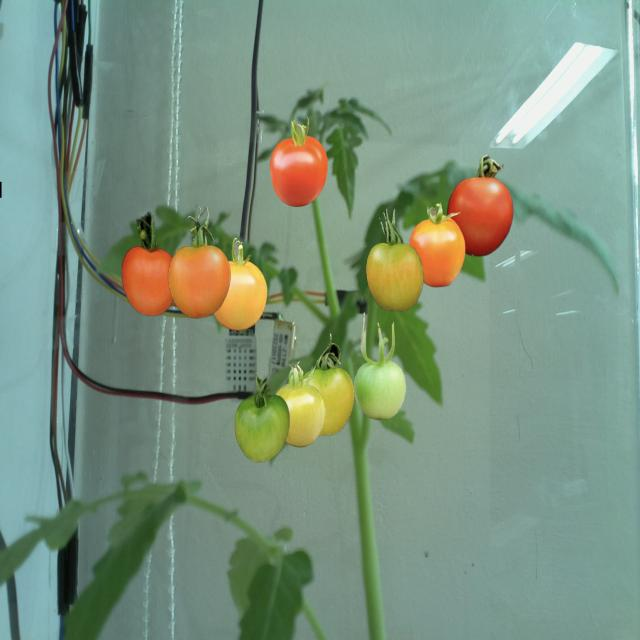level 1: (234, 392, 287, 464)
level 2: (354, 355, 404, 418)
level 3: (300, 367, 355, 436), (276, 378, 326, 444)
level 4: (207, 260, 271, 338), (366, 238, 424, 312)
level 5: (170, 239, 230, 321), (119, 244, 177, 321), (409, 216, 468, 291)
level 6: (446, 177, 517, 259), (270, 134, 328, 210)
